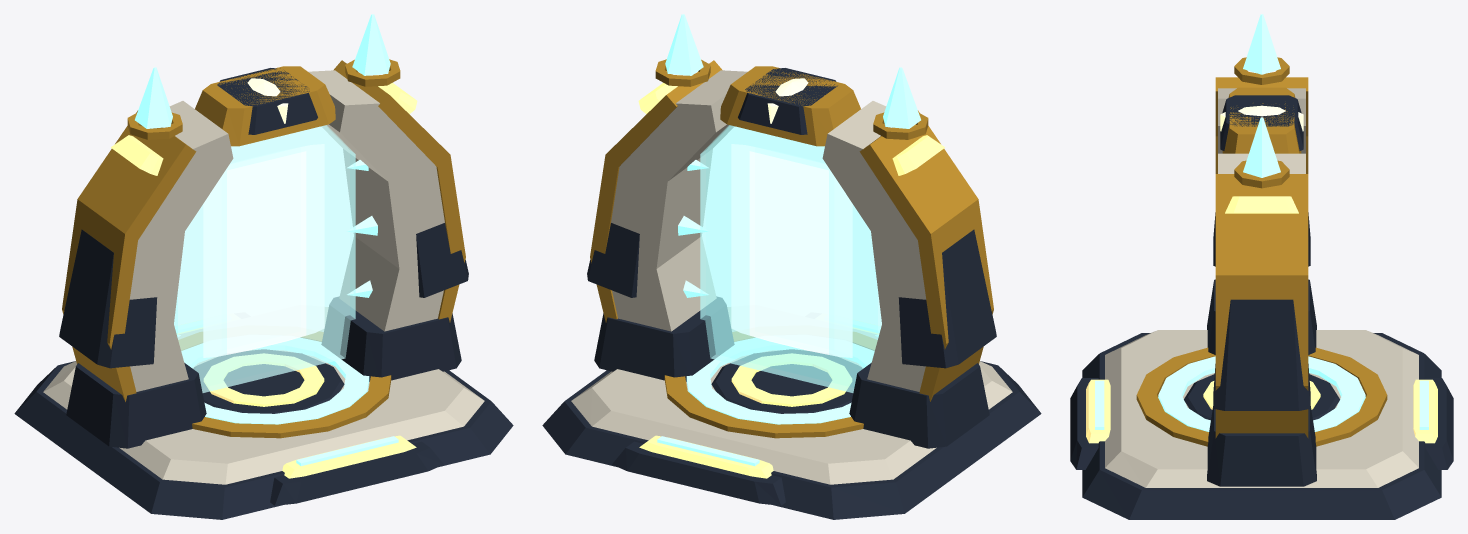
The model's file is waystone.glb.
3 views of the same model, side by side, from view 1: azimuth 30°, elevation 25°; view 2: azimuth 150°, elevation 25°; view 3: azimuth 270°, elevation 25° (orthographic). The views are drawn at different scales.
Visible parts, largest first — view 1: Surf_obs, Surf_ivory, Surf_portal, Surf_gold, Surf_rift, Surf_crys, Surf_TEAM; view 2: Surf_obs, Surf_ivory, Surf_portal, Surf_gold, Surf_rift, Surf_crys, Surf_TEAM; view 3: Surf_obs, Surf_gold, Surf_ivory, Surf_crys, Surf_TEAM, Surf_GLOW.
Part boxes in pixels (<box>): Surf_obs: <box>14,68,513,519</box>; Surf_ivory: <box>43,70,484,484</box>; Surf_portal: <box>174,125,355,392</box>; Surf_gold: <box>62,59,465,438</box>; Surf_rift: <box>203,144,324,357</box>; Surf_crys: <box>135,14,398,466</box>; Surf_TEAM: <box>111,75,417,478</box>; Surf_obs: <box>542,68,1041,519</box>; Surf_ivory: <box>571,70,1012,484</box>; Surf_portal: <box>700,125,881,392</box>; Surf_gold: <box>590,59,993,438</box>; Surf_rift: <box>731,144,852,357</box>; Surf_crys: <box>657,14,920,466</box>; Surf_TEAM: <box>638,75,944,478</box>; Surf_obs: <box>1070,95,1453,519</box>; Surf_gold: <box>1136,57,1387,446</box>; Surf_ivory: <box>1105,88,1418,487</box>; Surf_crys: <box>1095,14,1428,431</box>; Surf_TEAM: <box>1086,196,1437,443</box>; Surf_GLOW: <box>1220,105,1303,131</box>.
Size of the model in its own units: 5.4 by 5.25 by 4.96.
